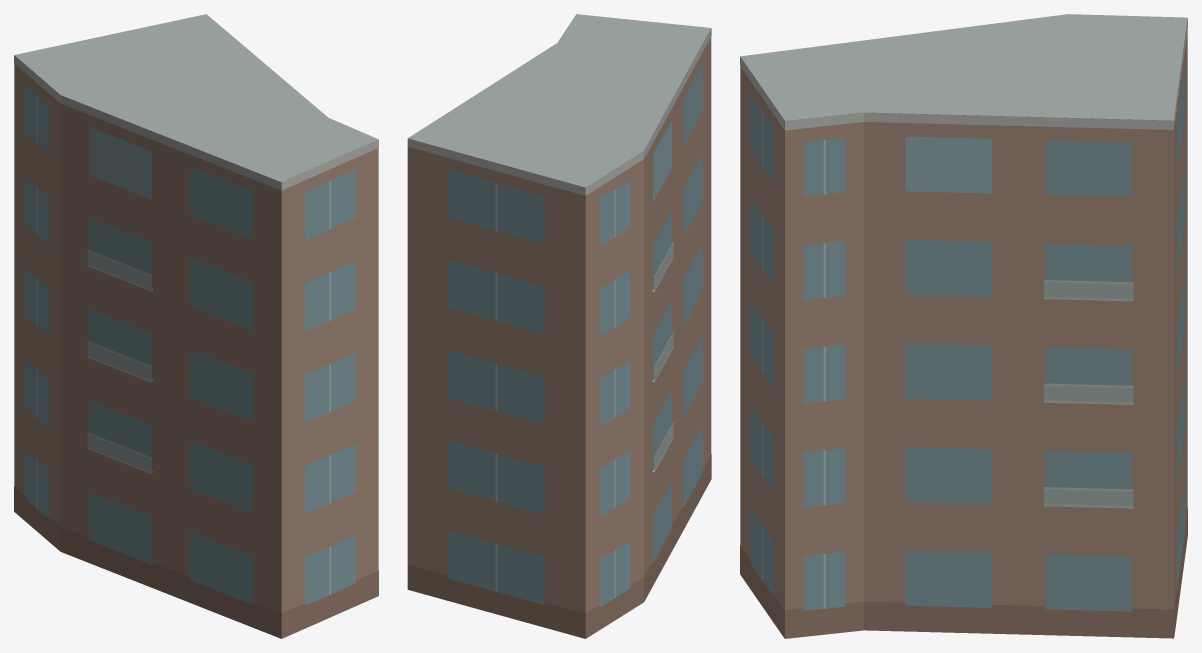
Rendered from survey-upis-32594243.glb.
3 views of the same model, side by side, from view 1: azimuth 30°, elevation 25°; view 2: azimuth 150°, elevation 25°; view 3: azimuth 270°, elevation 25° (orthographic). The views are drawn at different scales.
Visible parts, largest first — view 1: survey-upis-32594243.tmp; view 2: survey-upis-32594243.tmp; view 3: survey-upis-32594243.tmp.
Boxes of the visible parts, x1,y1,x2,y2 form: survey-upis-32594243.tmp: (14, 14, 378, 638); survey-upis-32594243.tmp: (407, 14, 711, 638); survey-upis-32594243.tmp: (740, 14, 1187, 638).
Size of the model in its own units: 5.9 by 13.3 by 10.43.
